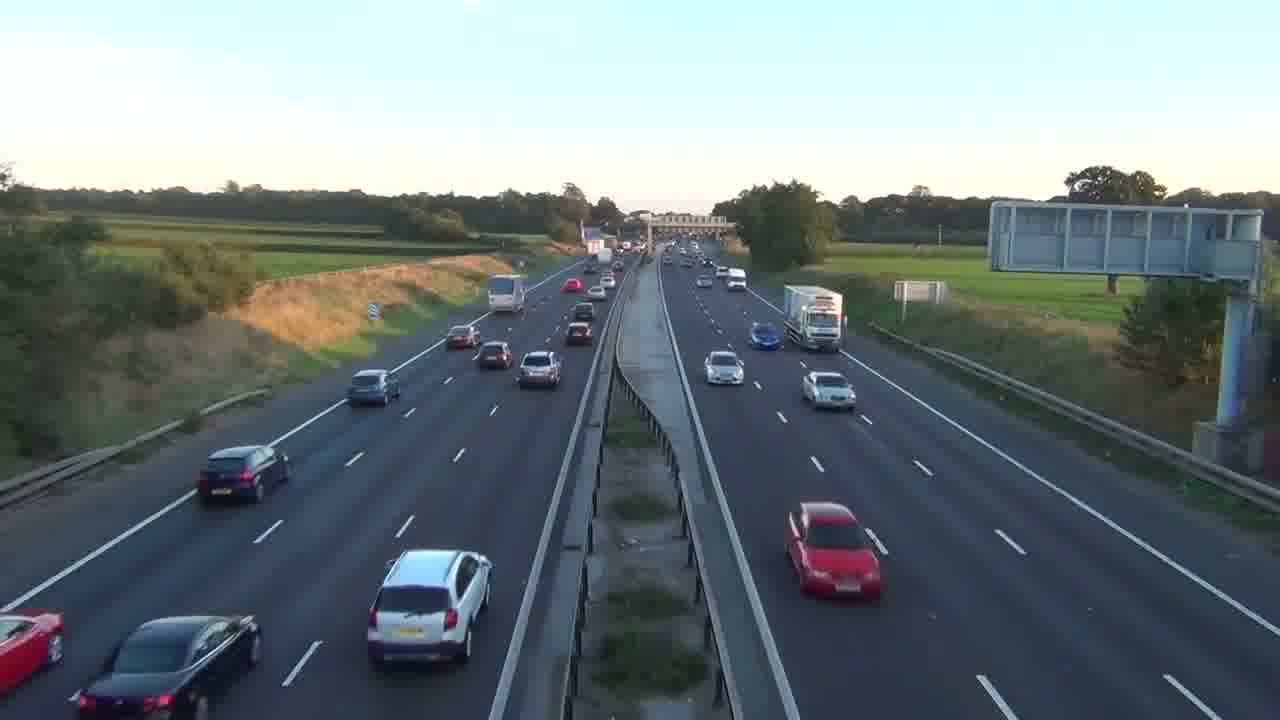car: (68, 611, 263, 718), (366, 547, 496, 667), (783, 500, 891, 601), (0, 607, 67, 701), (194, 443, 291, 505), (800, 369, 857, 411), (516, 350, 563, 389), (704, 348, 745, 387), (473, 340, 514, 371)
truck: (194, 443, 291, 505), (487, 274, 529, 316)
